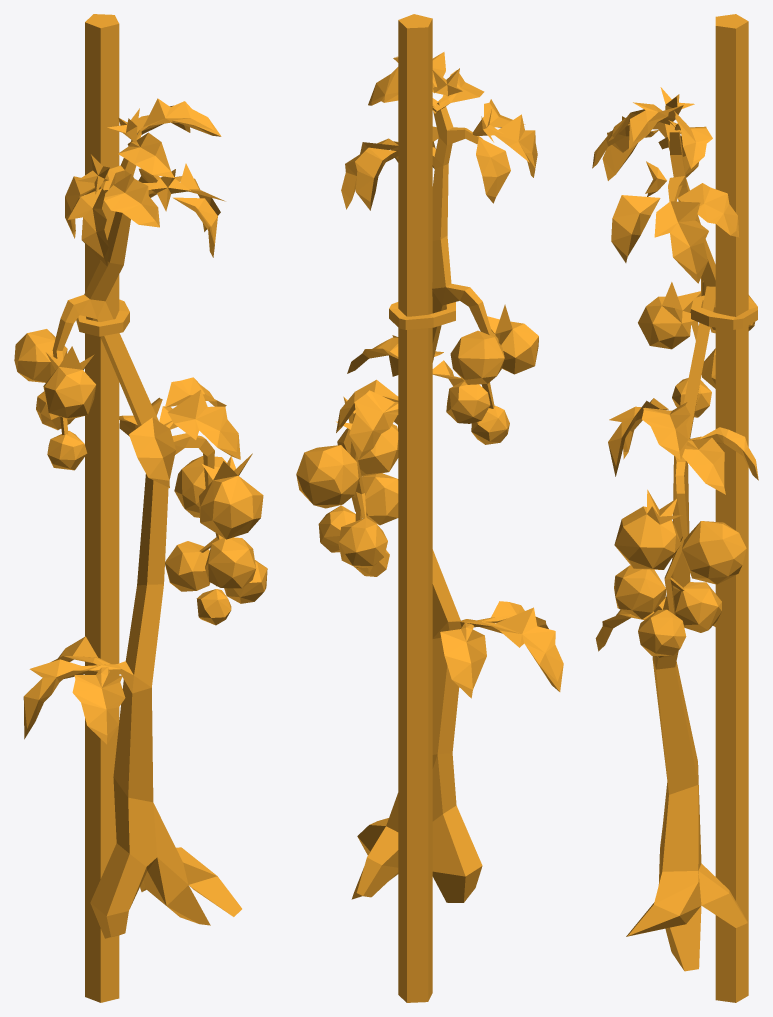
The model's file is SM_Tomato_Mature_Single_A.fbx.
The picture shows the model from 3 angles, left to right: view 1: azimuth 30°, elevation 25°; view 2: azimuth 150°, elevation 25°; view 3: azimuth 270°, elevation 25°; orthographic projection.
Visible parts, largest first — view 1: tomato-mature-single-a; view 2: tomato-mature-single-a; view 3: tomato-mature-single-a.
Part boxes in pixels (x1,y1,x2,y2): tomato-mature-single-a: (14,14,267,1002); tomato-mature-single-a: (296,14,563,1002); tomato-mature-single-a: (592,14,758,1002).
Size of the model in its own units: 0.4165 by 1.61 by 0.2499.
